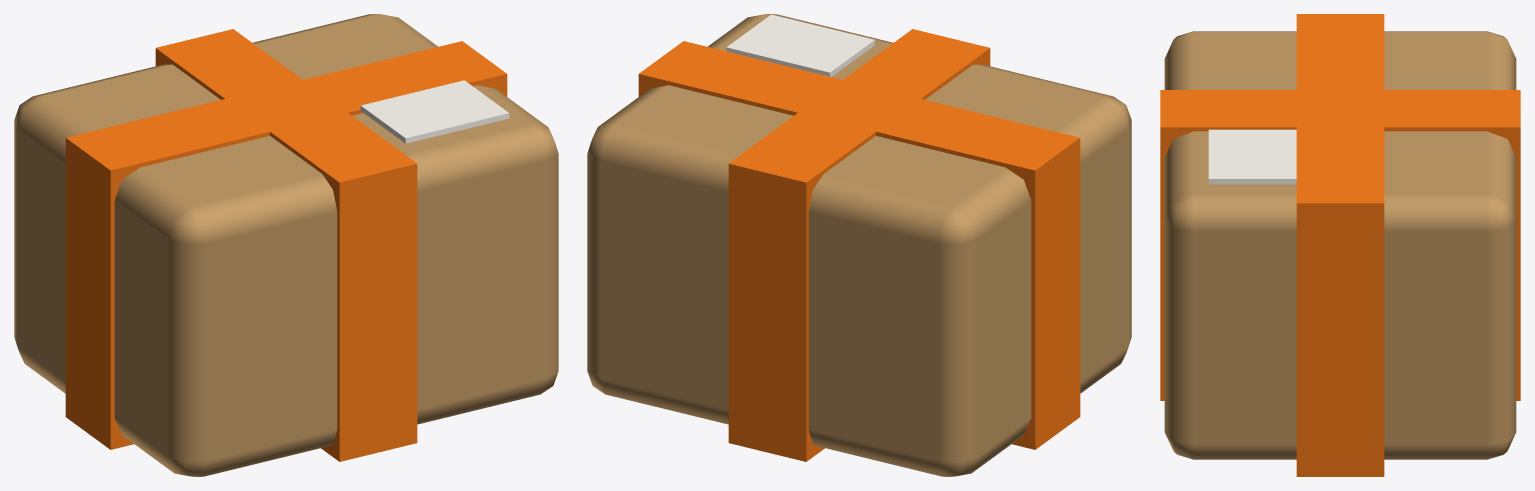
Rendered from fluss_teil.glb.
3 views of the same model, side by side, from view 1: azimuth 30°, elevation 25°; view 2: azimuth 150°, elevation 25°; view 3: azimuth 270°, elevation 25° (orthographic). The views are drawn at different scales.
Parts seen in each view (by area): view 1: fluss_teil; view 2: fluss_teil; view 3: fluss_teil.
Boxes of the visible parts, left/top/right/bottom form: fluss_teil: left=14, top=14, right=558, bottom=476; fluss_teil: left=587, top=14, right=1131, bottom=476; fluss_teil: left=1160, top=14, right=1520, bottom=476.
Bounding box in the file's own units: 0.306 × 0.209 × 0.246.
